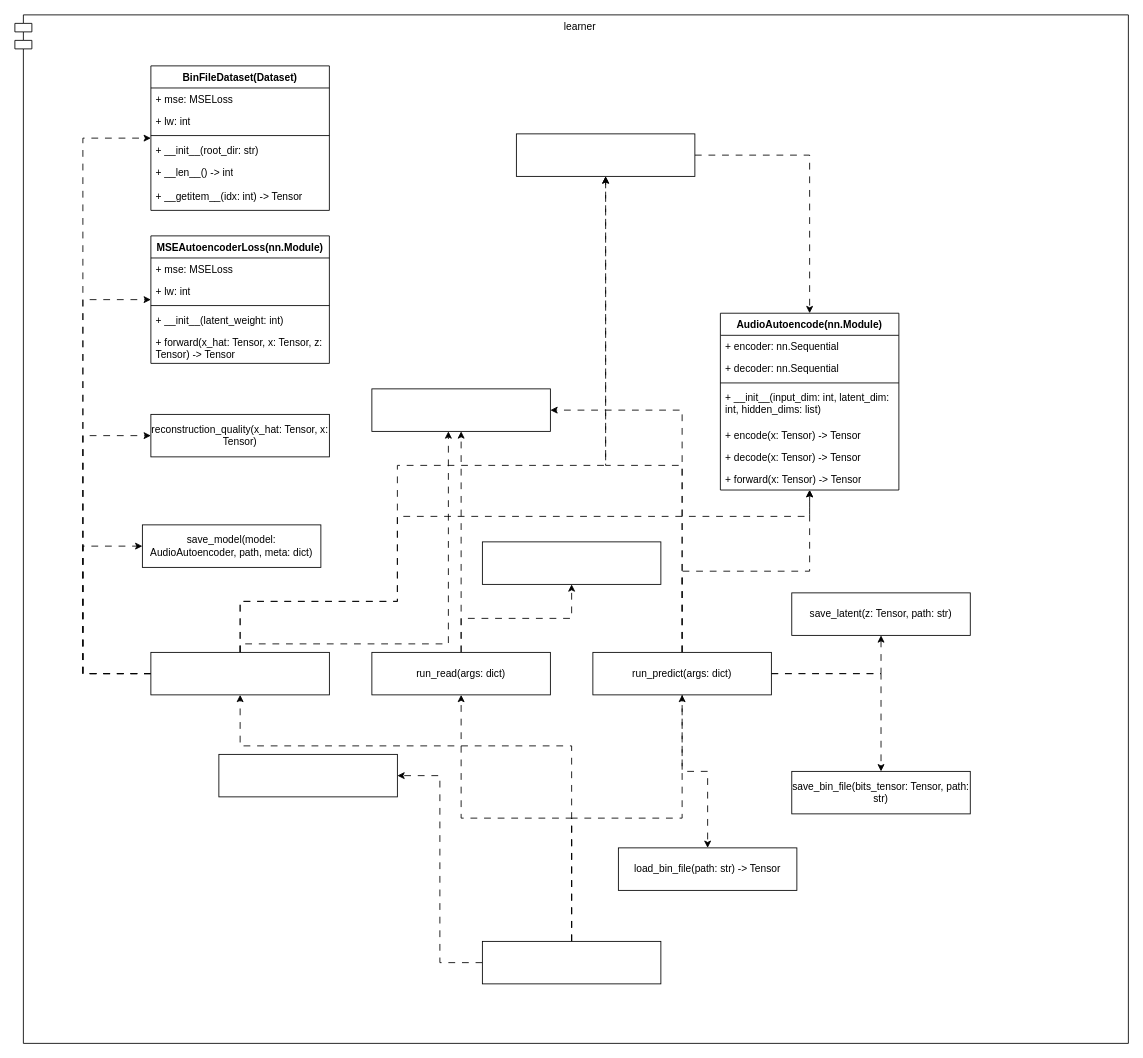
Image size: 1143x1058. Some labels were removed from this diagram. Each missing label, with the centre of its shape:
"build_parser() -> ArgumentParser" belongs at point (307, 775).
"get_device() -> str" belongs at point (460, 409).
"load_meta(path: str, device: str)" belongs at point (571, 562).
"load_model(path: str, device: str) -> AudioAutoencoder" belongs at point (605, 154).
"main()" belongs at point (571, 962).
"run_train(args: dict)" belongs at point (239, 673).
